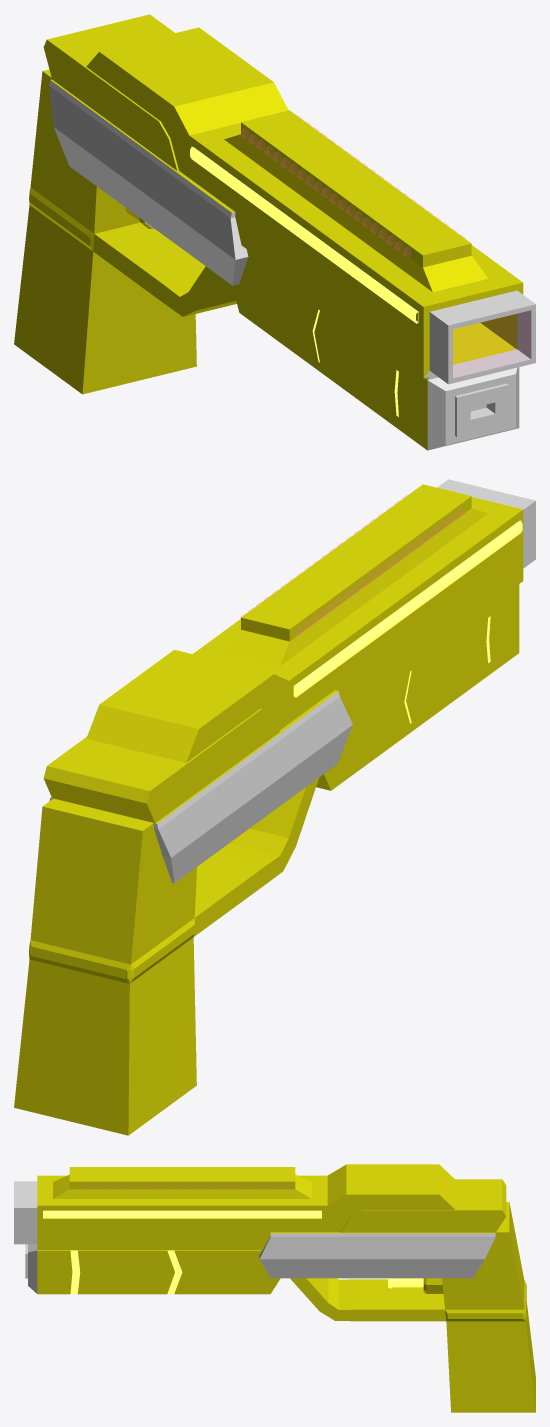
The model's file is LaserGun2.fbx.
3 renders of one model, top to bottom at view 1: azimuth 30°, elevation 25°; view 2: azimuth 150°, elevation 25°; view 3: azimuth 270°, elevation 25°, orthographic. The views are drawn at different scales.
Parts seen in each view (by area): view 1: LaserGun2_Tris; view 2: LaserGun2_Tris; view 3: LaserGun2_Tris.
Boxes of the visible parts, x1,y1,x2,y2 form: LaserGun2_Tris: (14, 14, 535, 450); LaserGun2_Tris: (14, 479, 535, 1135); LaserGun2_Tris: (14, 1164, 535, 1412).
Bounding box in the file's own units: 6.05 × 17.53 × 37.55.
